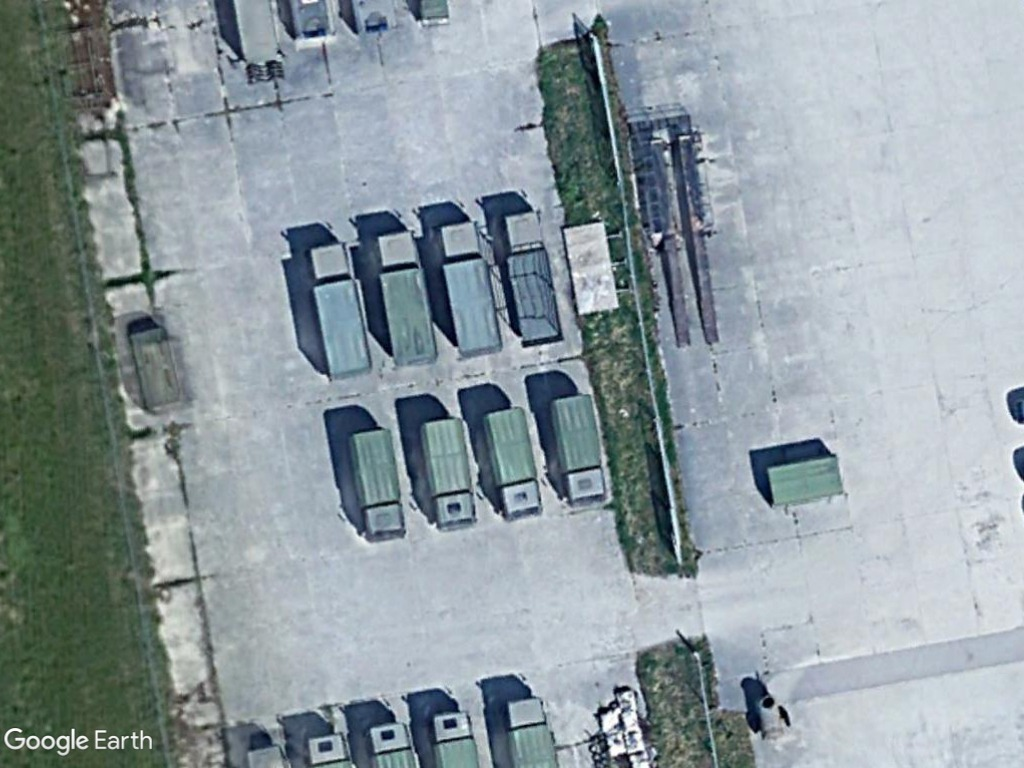truck: (305, 236, 377, 384), (368, 224, 440, 369), (435, 213, 504, 363), (499, 206, 567, 351), (344, 421, 411, 547), (549, 386, 612, 510), (480, 401, 543, 522), (415, 409, 477, 530)
